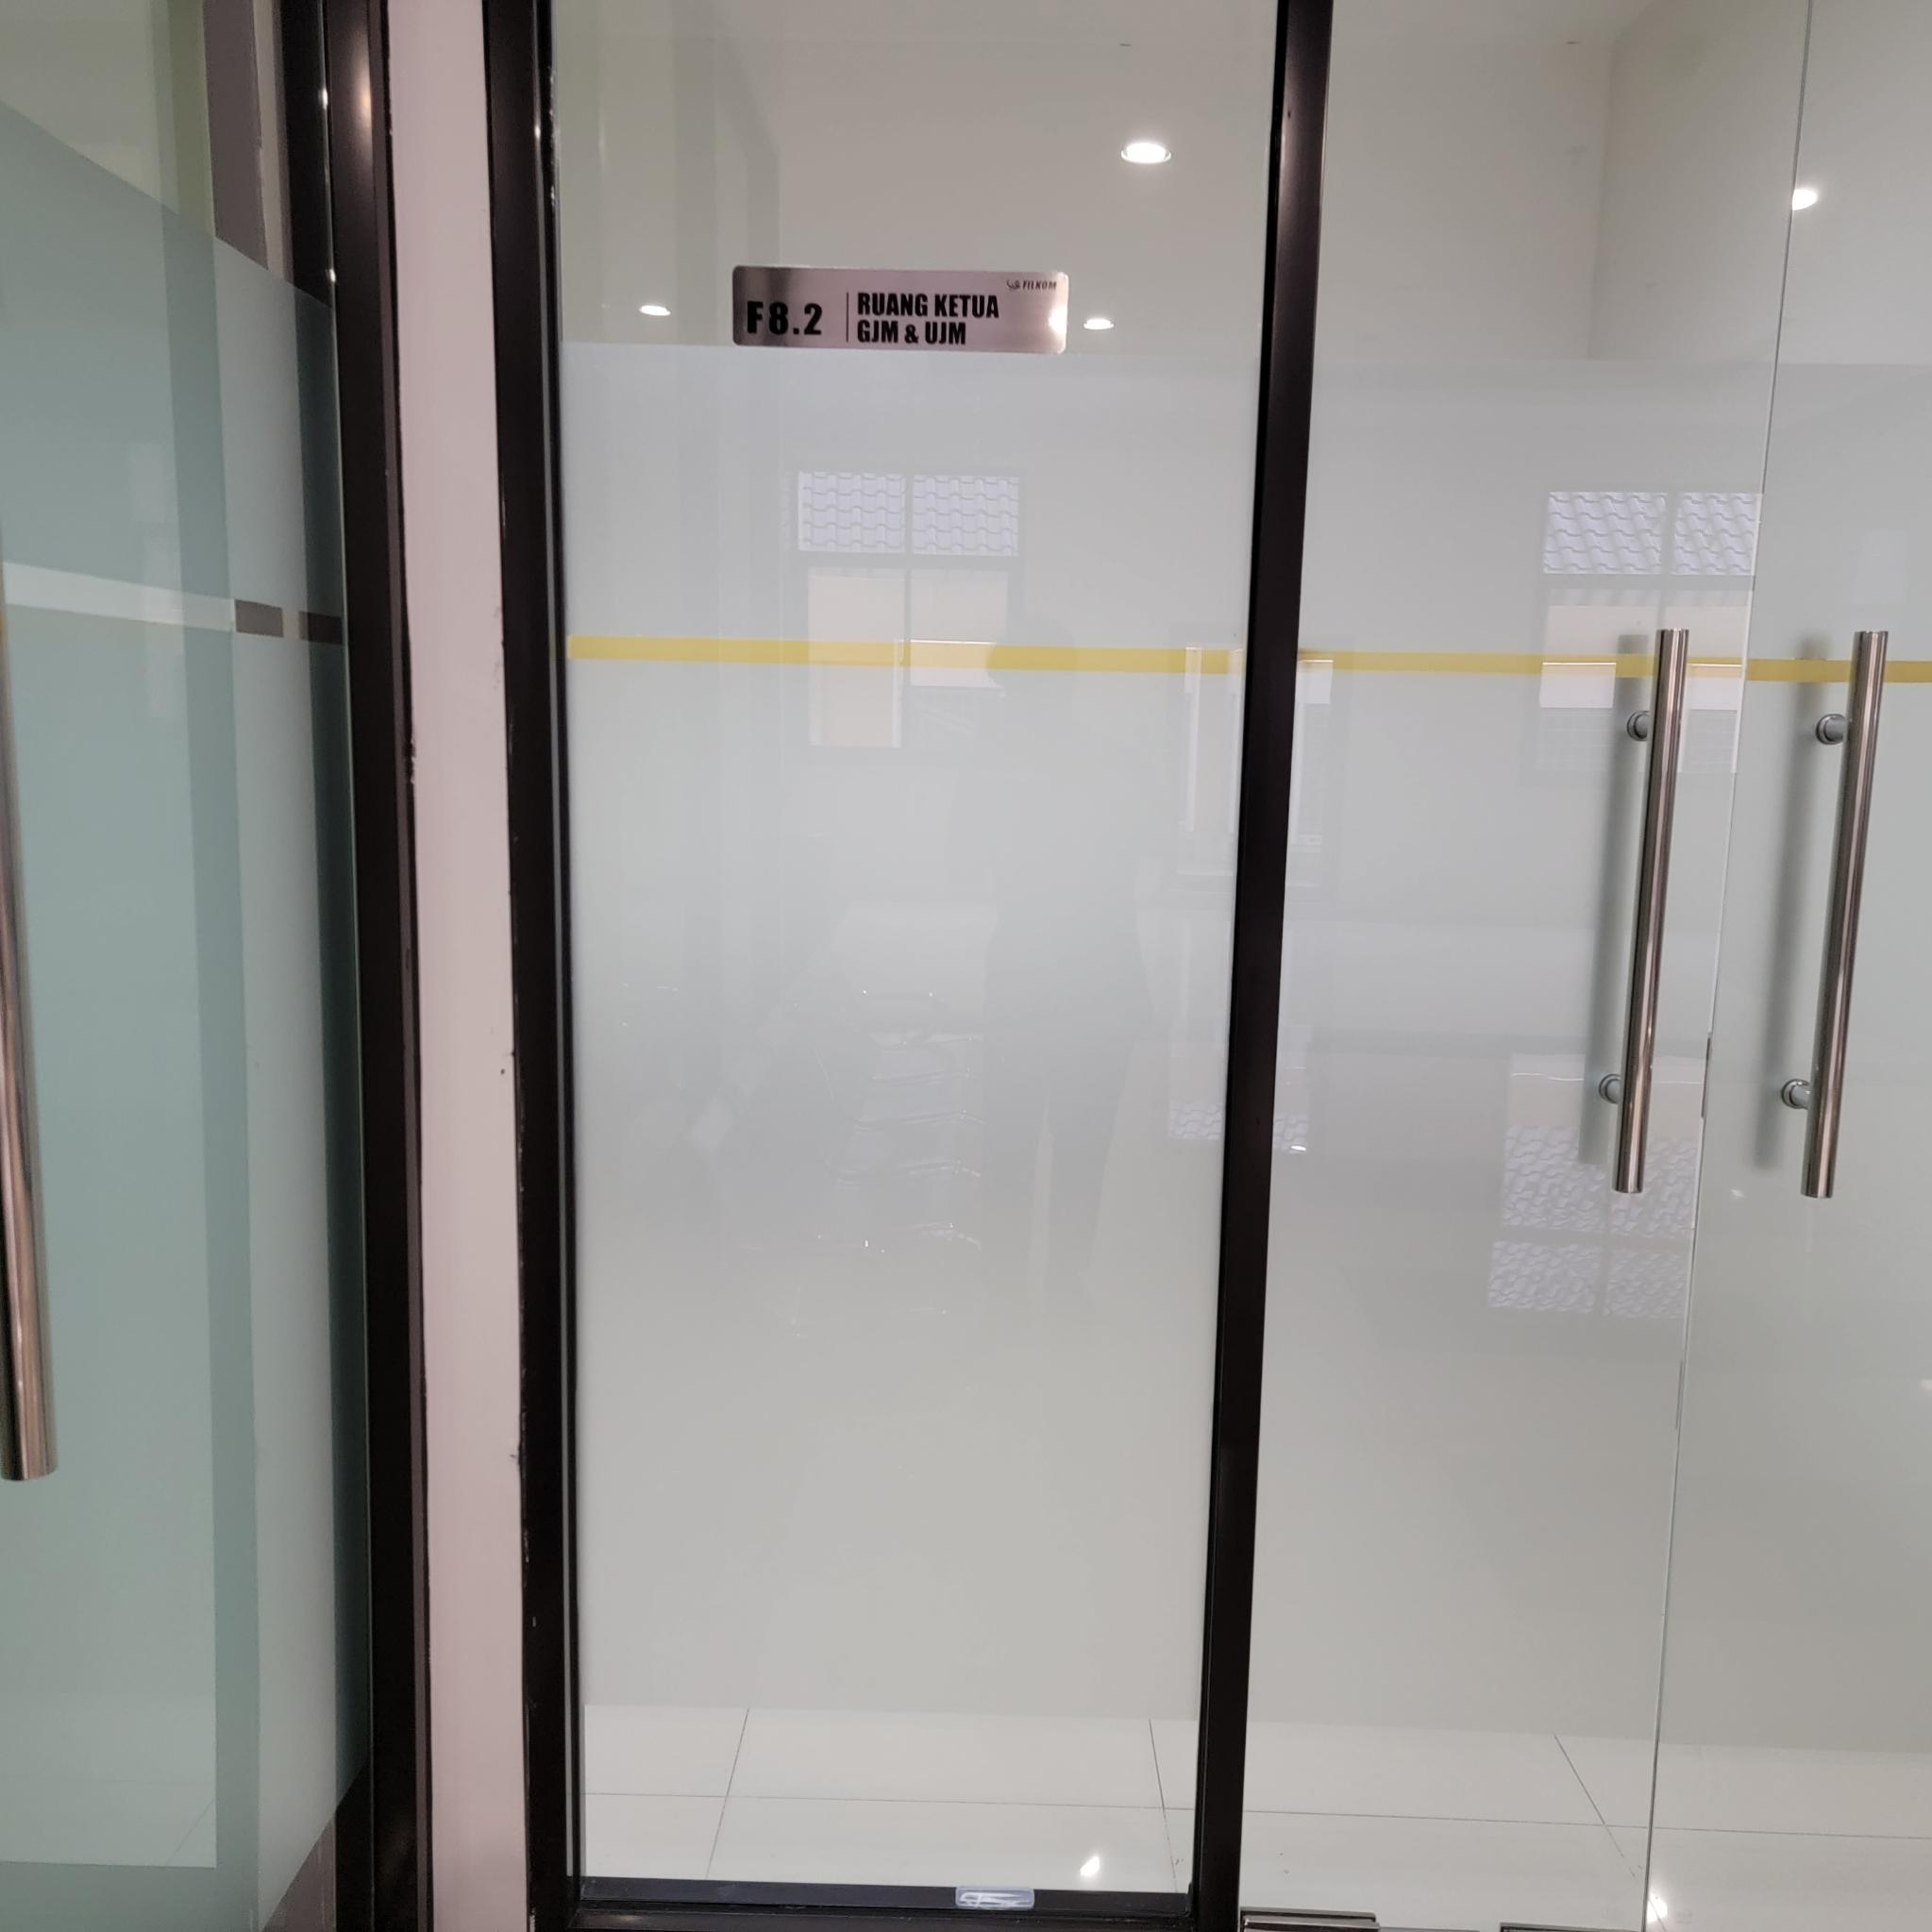plate: (729, 262, 1077, 357)
